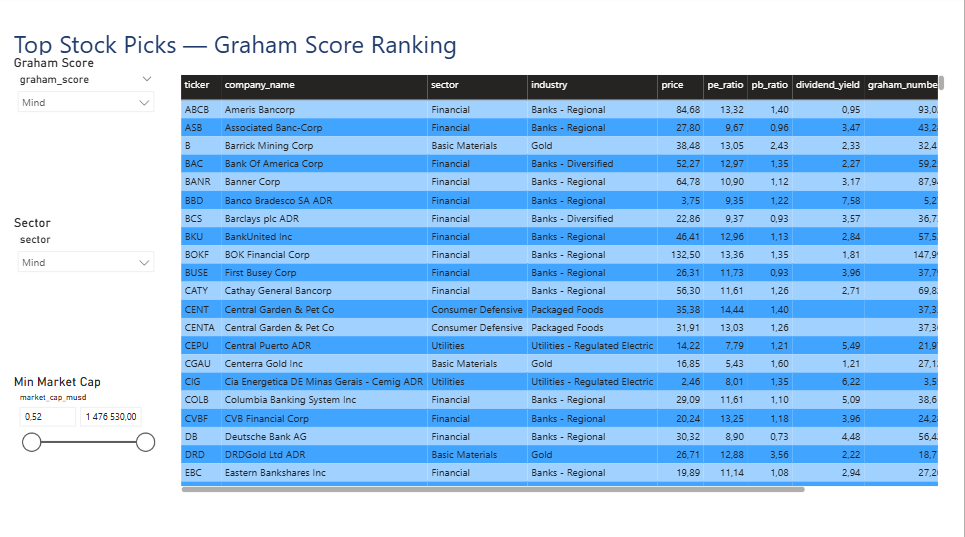

The dashboard page shown, as its layout file describes it:
{"tool":"powerbi","page":{"name":"Stock Picker","canvas":[1280,720],"ordinal":1},"visuals":[{"type":"tableEx","title":"Top 20 Graham Picks (sorted by score)","fields":{"Values":["graham_stocks stock_fundamentals.ticker","graham_stocks stock_fundamentals.company_name","graham_stocks stock_fundamentals.sector","graham_stocks stock_fundamentals.industry","graham_stocks stock_fundamentals.price","graham_stocks stock_fundamentals.pe_ratio","graham_stocks stock_fundamentals.pb_ratio","graham_stocks stock_fundamentals.dividend_yield","graham_stocks stock_fundamentals.graham_number","graham_stocks stock_fundamentals.price_to_graham","graham_stocks stock_fundamentals.graham_score"]},"box":[240,80,1020,583.3],"z":0},{"type":"textbox","box":[19.5,19.5,1239.7,82.9],"z":1},{"type":"slicer","title":"Graham Score","fields":{"Values":["graham_stocks stock_fundamentals.graham_score"]},"box":[20,80,200,200],"z":2},{"type":"slicer","title":"Sector","fields":{"Values":["graham_stocks stock_fundamentals.sector"]},"box":[20,290,200,200],"z":3},{"type":"slicer","title":"Min Market Cap","fields":{"Values":["graham_stocks stock_fundamentals.market_cap_musd"]},"box":[20,500,200,120],"z":4}]}

Visuals, with their boxes on the page's 1280x720 design canvas (x1, y1, x2, y2). These are canvas units, not pixel positions in the 965x537 screenshot, which may show the page scaled, cropped or inside an application window:
"Top 20 Graham Picks (sorted by score)" tableEx: Rect(240, 80, 1260, 663)
textbox: Rect(20, 20, 1259, 102)
"Graham Score" slicer: Rect(20, 80, 220, 280)
"Sector" slicer: Rect(20, 290, 220, 490)
"Min Market Cap" slicer: Rect(20, 500, 220, 620)
